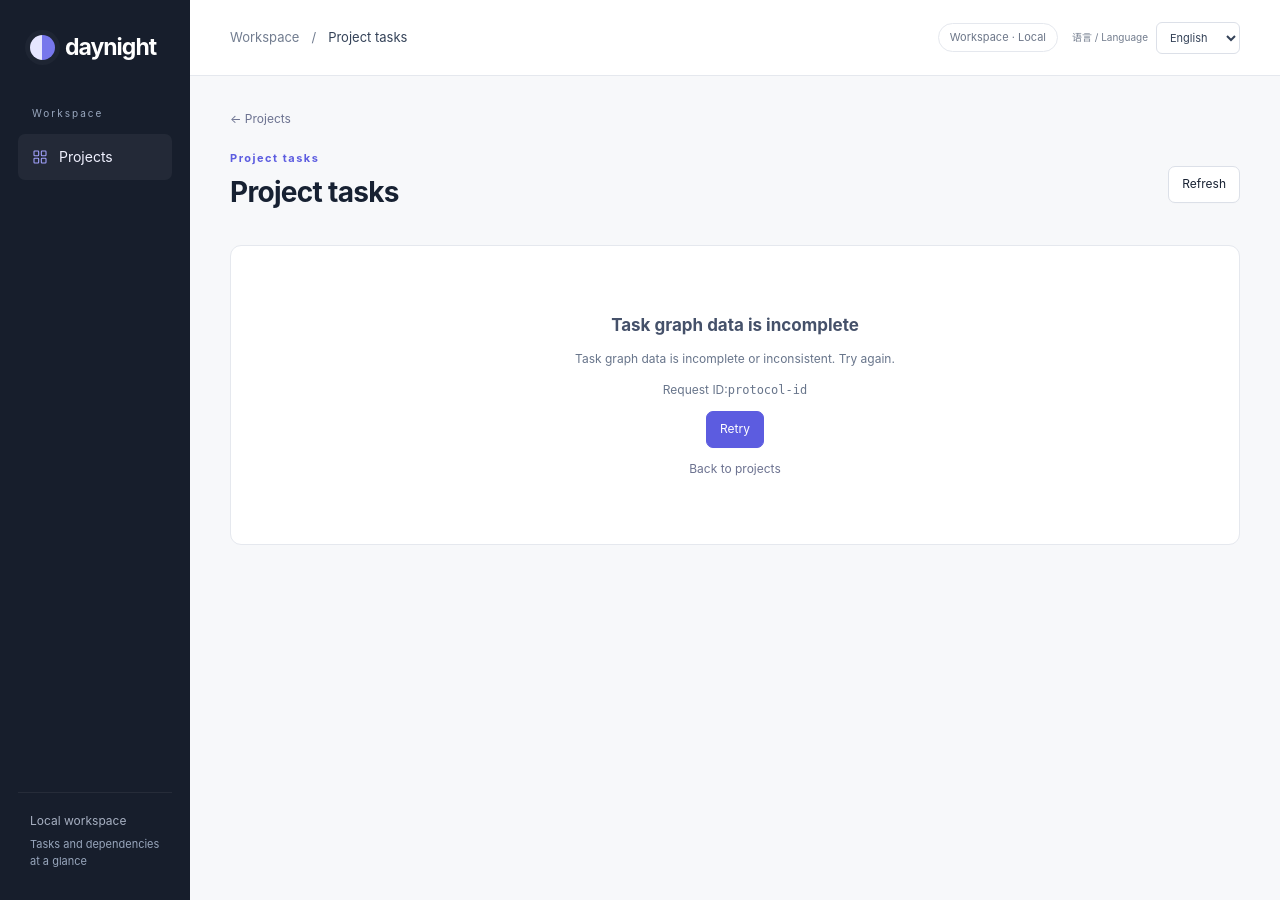
Test case: workspace localization › retranslates an existing {"name":"ApiError","kind":"protocol","status":200,"code":"protocol","requestId":"protocol-id"} error and retains its request ID without
Expected: the heading "Task graph data is incomplete" is shown, top-left (611, 312), bottom-right (859, 338)
Select "简体中文" in the dropdown at [1198, 38], box top-left (1156, 22), bottom-right (1240, 54)
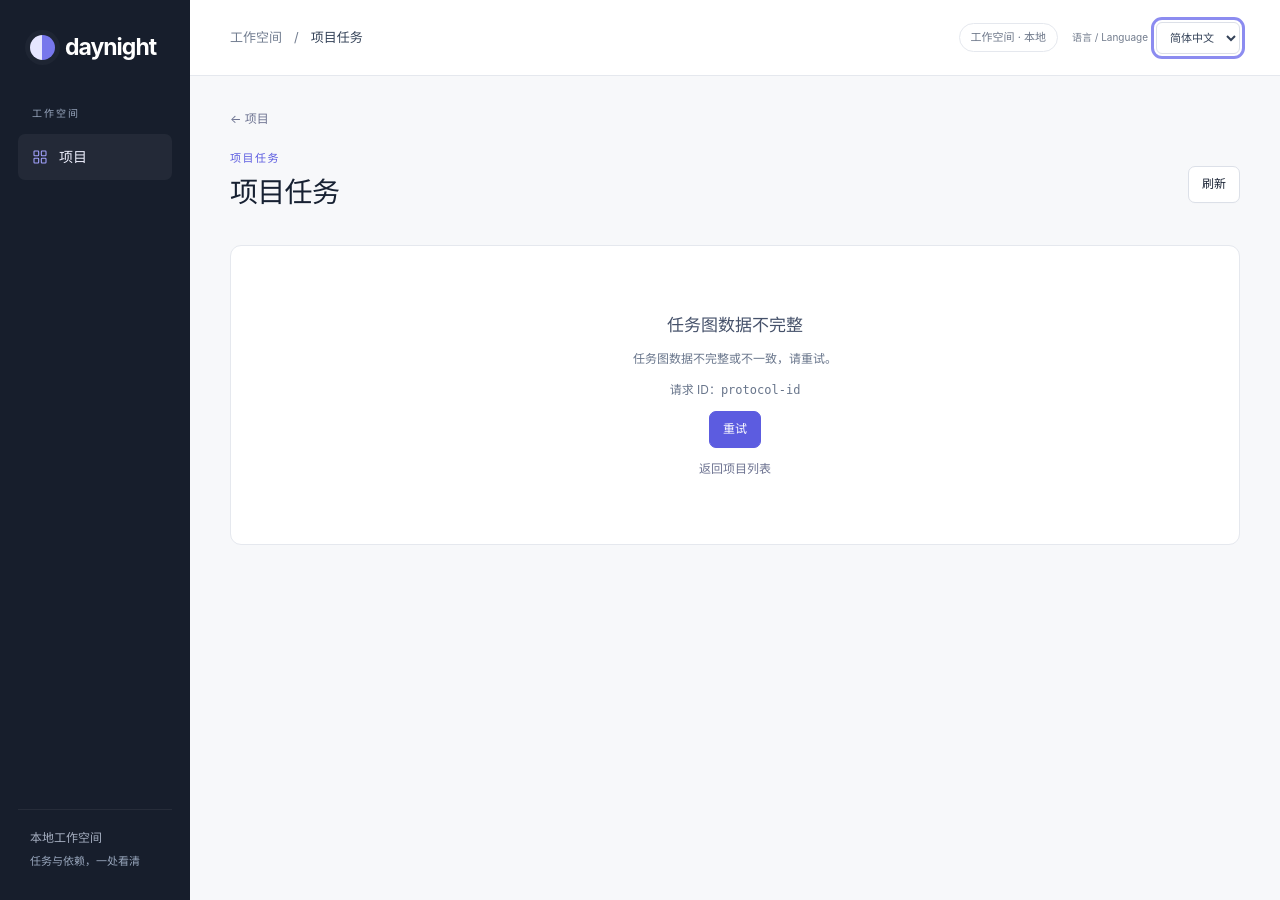
Result: the text "任务图数据不完整或不一致，请重试。" is shown at top-left (633, 350), bottom-right (837, 369)
